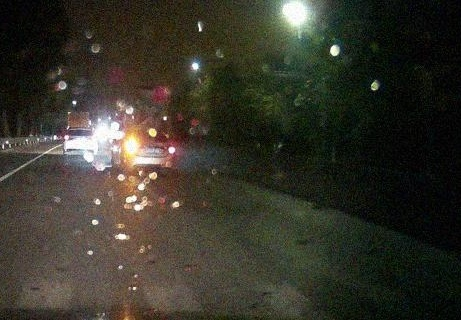L_light: (124, 143, 141, 150), (64, 136, 73, 140)
R_light: (156, 145, 175, 153), (86, 137, 95, 140)
T_light: (146, 130, 158, 132), (78, 128, 85, 129)
night-left: (123, 129, 176, 176)
night-no: (63, 127, 97, 155)
